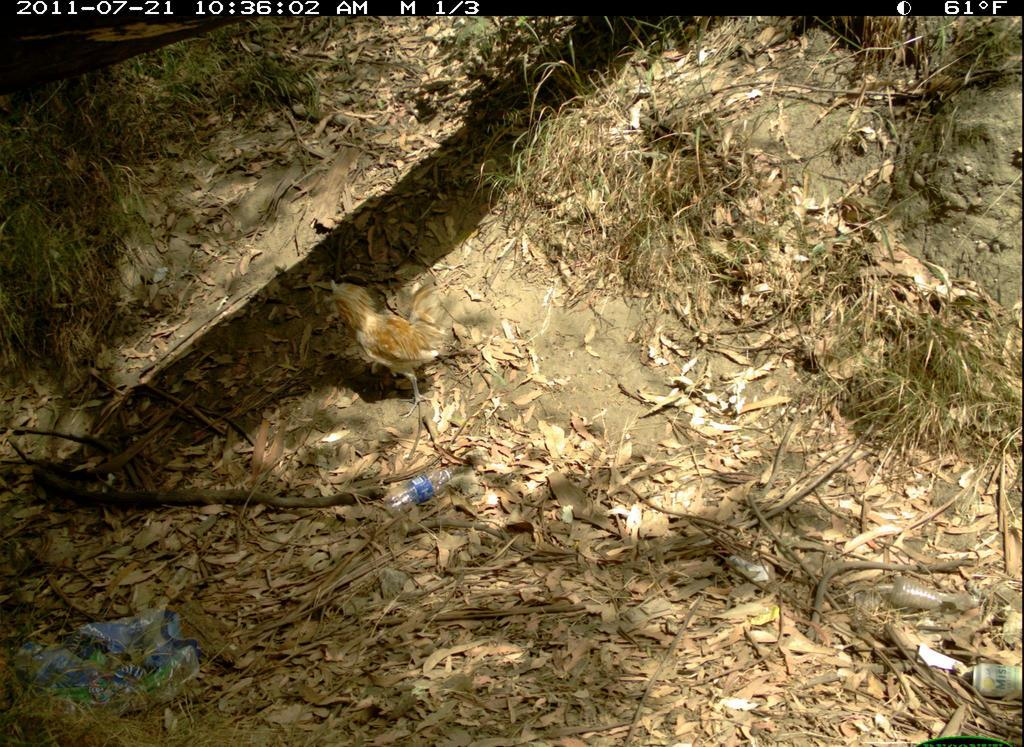bird: (321, 268, 491, 418)
